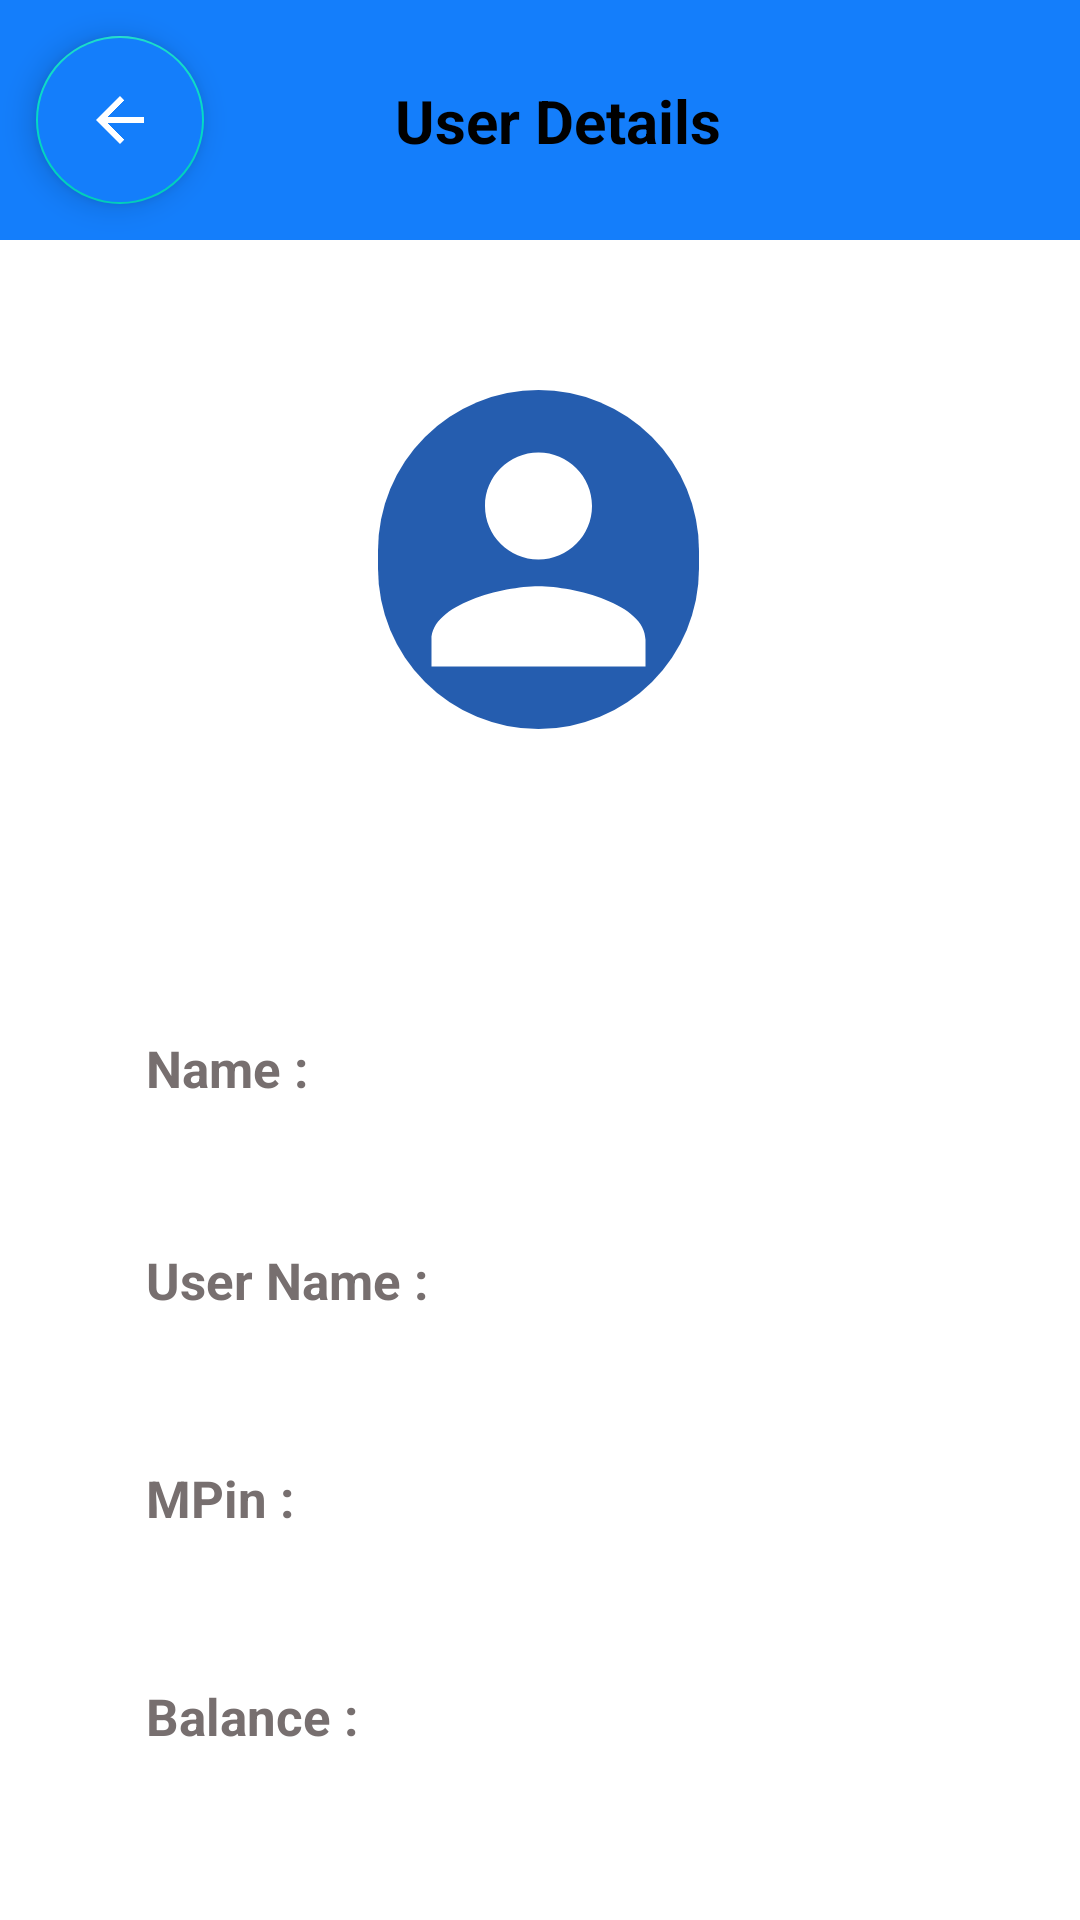

Where to tap for icons on this 1080px x 1920px app screen, as (x=x, y=y):
person: (x=538, y=559)
